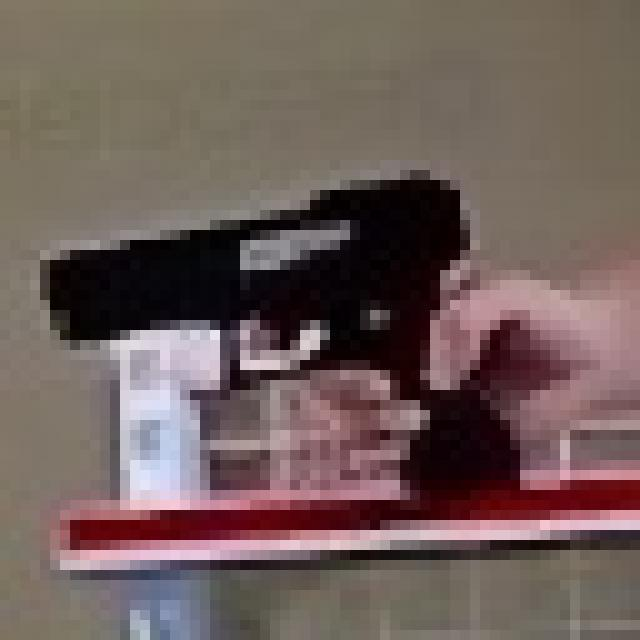Handgun: (6, 120, 610, 610)
